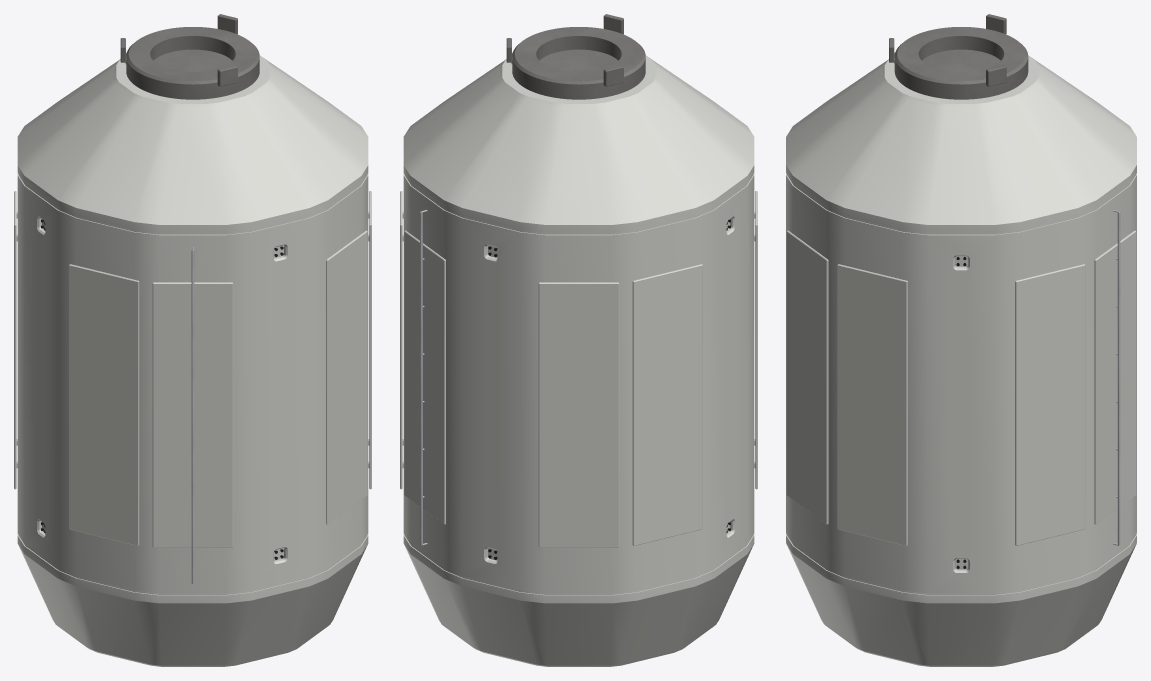
File: ax_station_09_service_module.glb
The picture shows the model from 3 angles, left to right: view 1: azimuth 30°, elevation 25°; view 2: azimuth 150°, elevation 25°; view 3: azimuth 270°, elevation 25°; orthographic projection.
Visible parts, largest first — view 1: pressure_hull, radiator_panels, port_top, handrails, hatch_door_1, port_top_petals; view 2: pressure_hull, radiator_panels, port_top, hatch_door_1, handrails, port_top_petals; view 3: pressure_hull, radiator_panels, port_top, handrails, hatch_door_1, port_top_petals.
Part boxes in pixels (bbox=[...]): pressure_hull: bbox=[17, 55, 368, 666]; radiator_panels: bbox=[14, 191, 371, 547]; port_top: bbox=[126, 27, 259, 99]; handrails: bbox=[191, 247, 194, 584]; hatch_door_1: bbox=[153, 49, 232, 71]; port_top_petals: bbox=[120, 14, 237, 86]; pressure_hull: bbox=[403, 55, 754, 666]; radiator_panels: bbox=[400, 191, 757, 547]; port_top: bbox=[512, 27, 645, 99]; hatch_door_1: bbox=[539, 49, 618, 71]; handrails: bbox=[420, 210, 427, 545]; port_top_petals: bbox=[506, 14, 623, 86]; pressure_hull: bbox=[786, 55, 1136, 666]; radiator_panels: bbox=[786, 230, 1136, 545]; port_top: bbox=[894, 27, 1028, 99]; handrails: bbox=[1113, 210, 1120, 545]; hatch_door_1: bbox=[922, 49, 1000, 71]; port_top_petals: bbox=[889, 14, 1006, 86].
Bounding box in the file's own units: 4.2 × 7.48 × 4.2.
4 materials, 2 textured.
